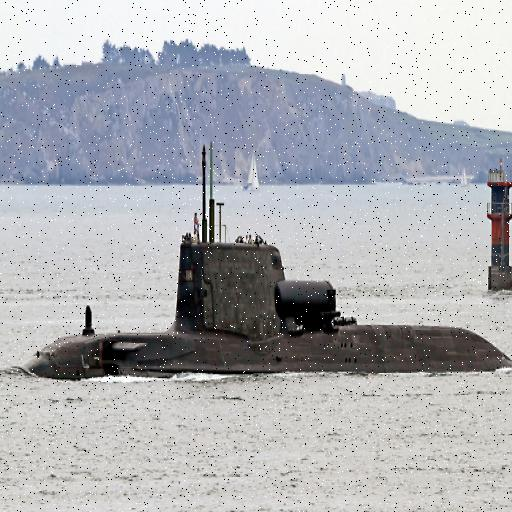submarine: (22, 133, 512, 381)
